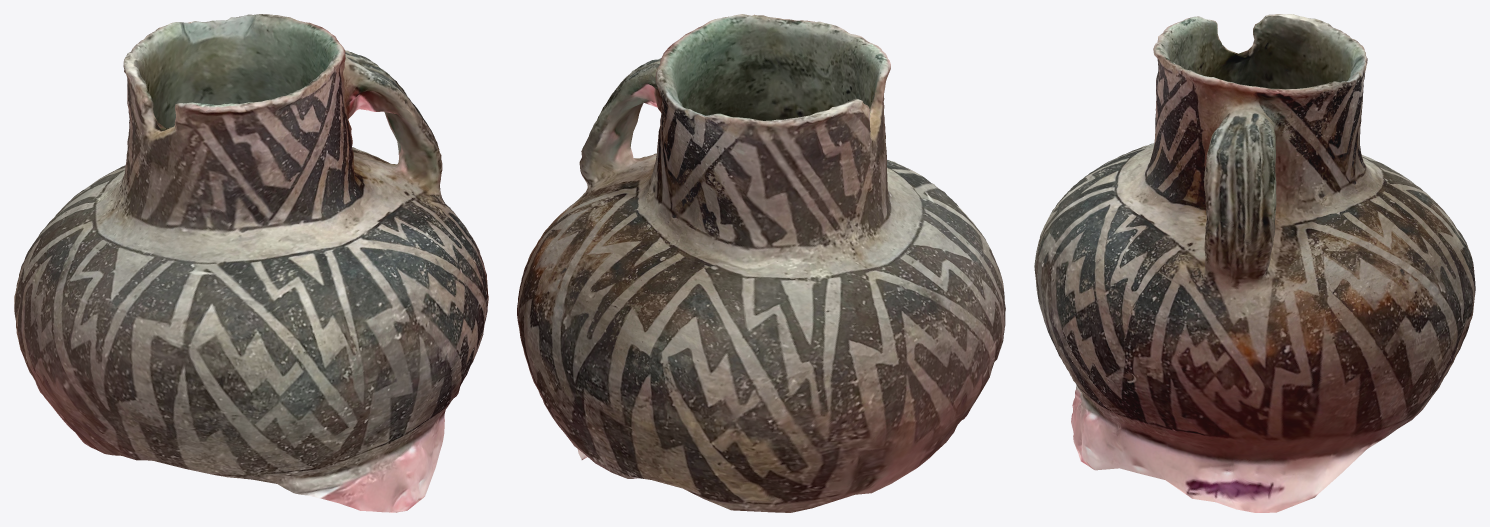
Rendered from sw_pot.glb.
3 views of the same model, side by side, from view 1: azimuth 30°, elevation 25°; view 2: azimuth 150°, elevation 25°; view 3: azimuth 270°, elevation 25° (orthographic). The views are drawn at different scales.
Visible parts, largest first — view 1: Object_2; view 2: Object_2; view 3: Object_2.
Part boxes in pixels (left/top/right/bottom): Object_2: left=14, top=14, right=488, bottom=512; Object_2: left=517, top=14, right=1005, bottom=512; Object_2: left=1034, top=14, right=1475, bottom=512.
Bounding box in the file's own units: 179 × 175 × 177.
Materials: 1 (1 with a texture image).
